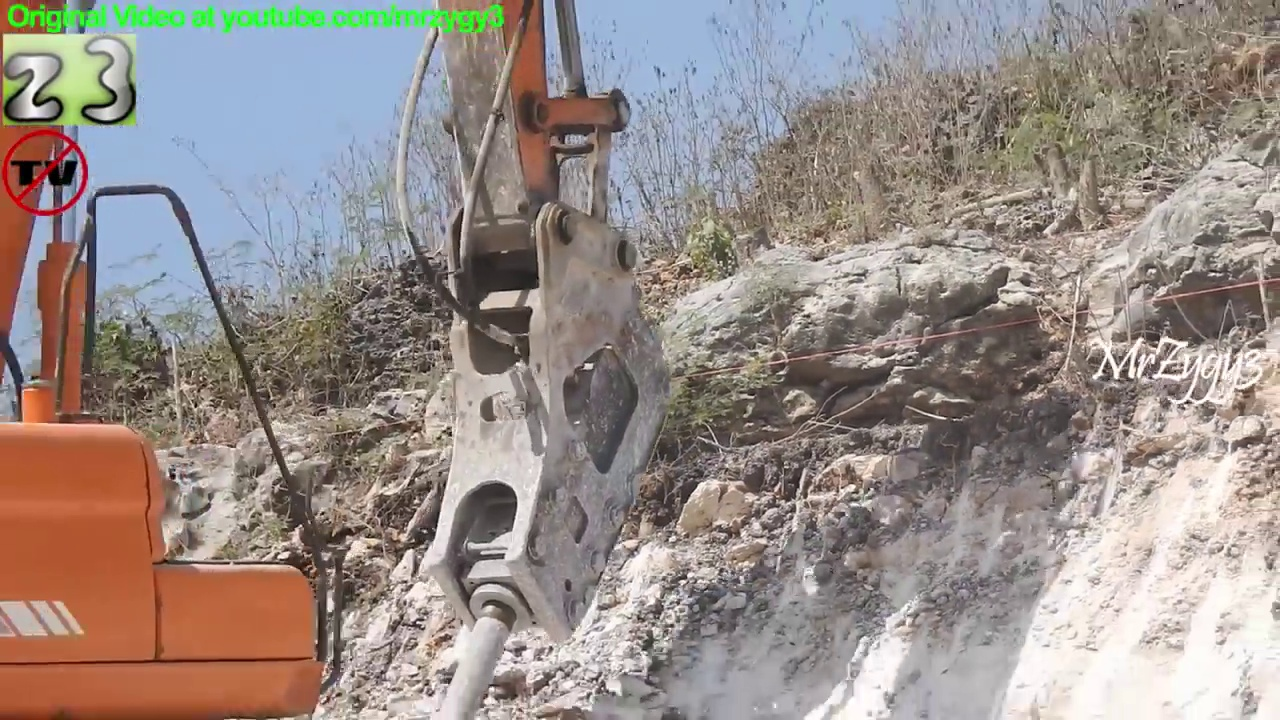excavator: (1, 1, 682, 720)
